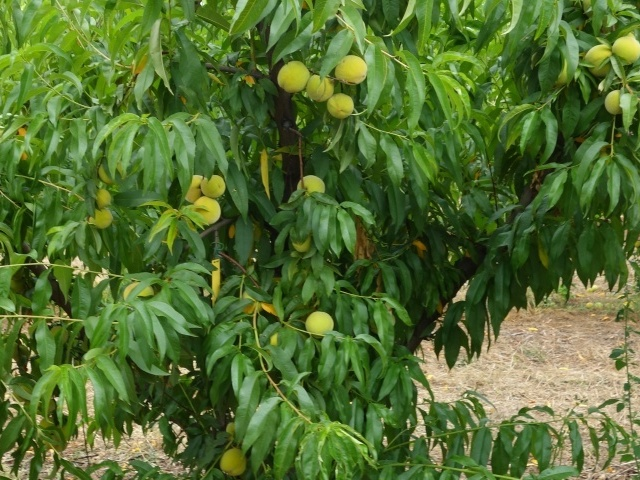peach: (272, 55, 311, 95), (332, 52, 371, 88), (583, 41, 621, 75), (117, 277, 156, 305), (304, 69, 335, 104), (292, 173, 328, 202), (612, 28, 640, 65), (326, 89, 359, 120), (218, 445, 249, 477), (304, 309, 335, 340), (191, 196, 222, 226), (179, 173, 208, 203), (200, 172, 228, 201), (600, 85, 626, 116), (87, 204, 115, 231), (90, 187, 116, 212), (239, 290, 263, 316), (290, 233, 314, 258)
